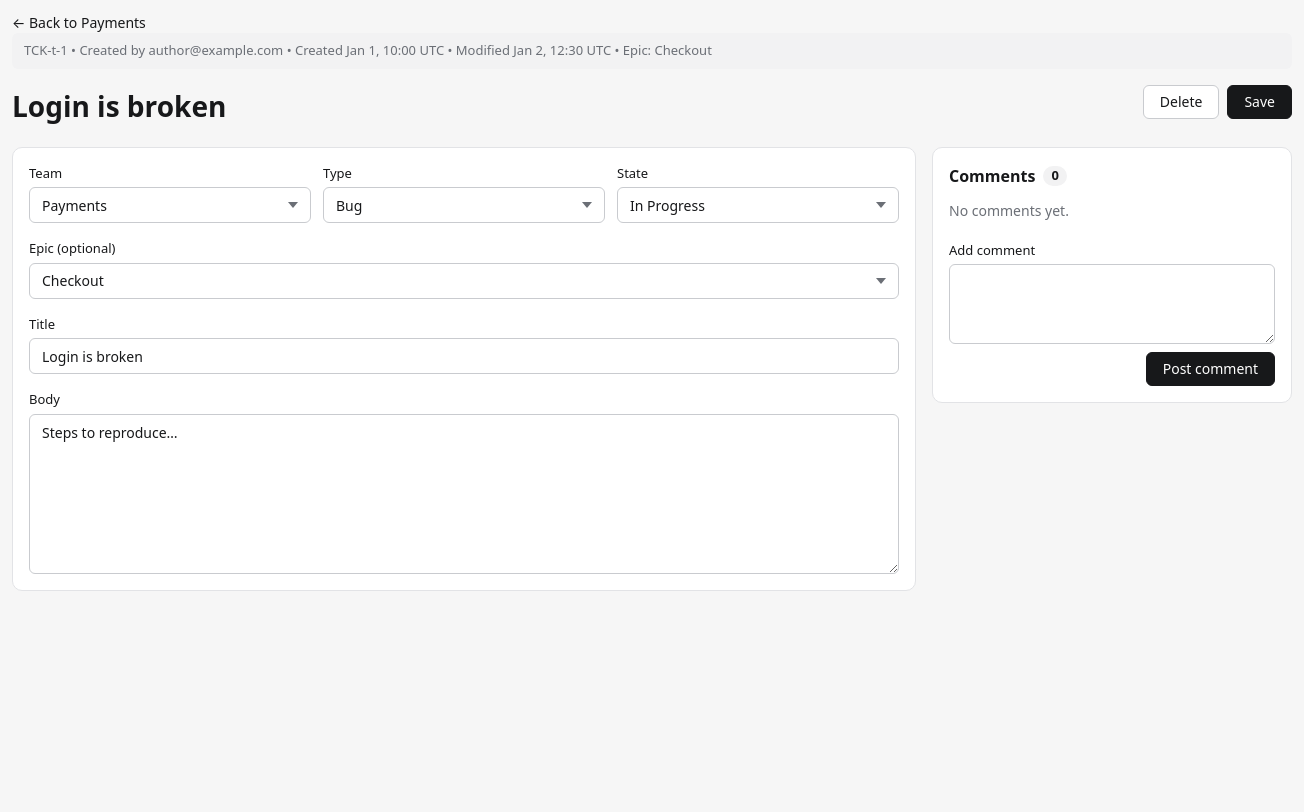
Comments panel › shows an inline error when posting an empty comment
This screenshot has width=1304, height=812.
expect the text "No comments yet." is shown: met, box x1=949 y1=200 x2=1069 y2=220
Click the button "Post comment". click: (1210,369)
box: x1=1146 y1=352 x2=1275 y2=386
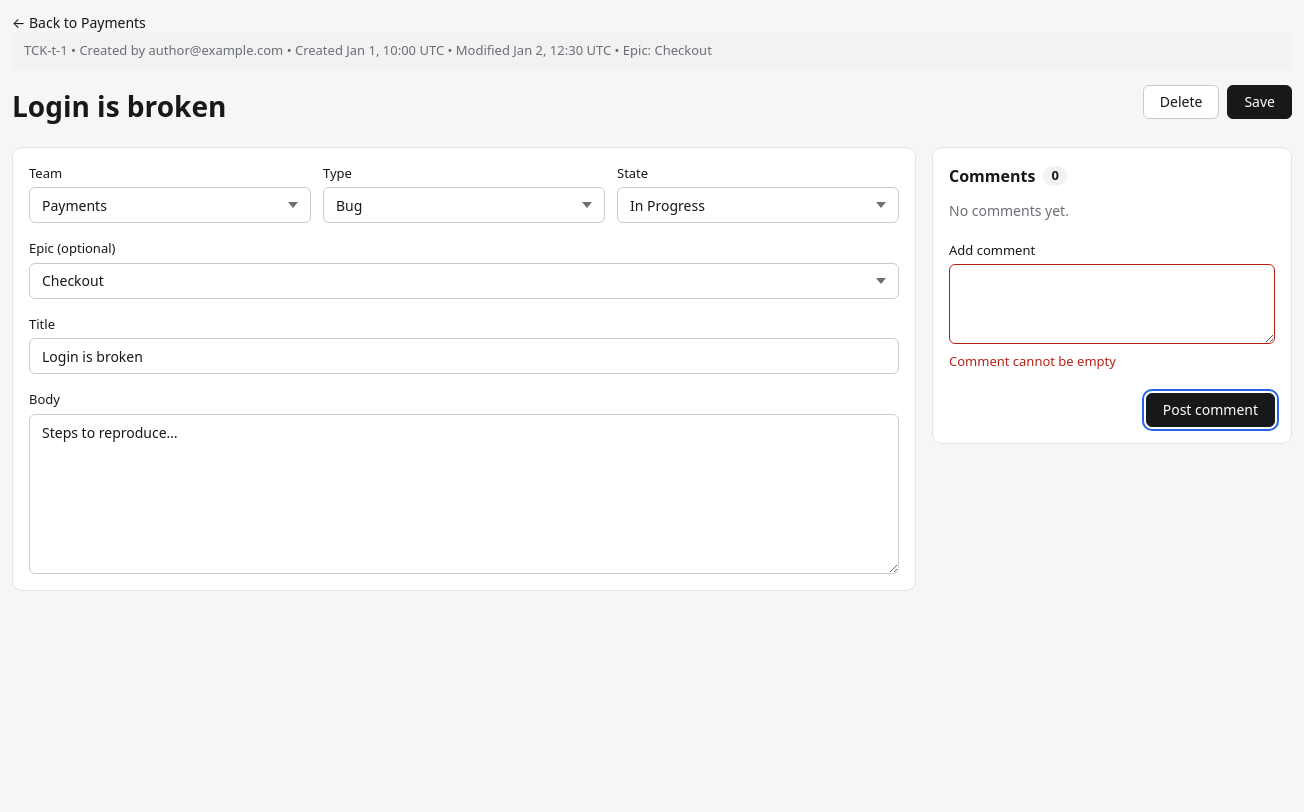
expect the text "Comment cannot be empty" is shown: met, box x1=949 y1=352 x2=1116 y2=370
